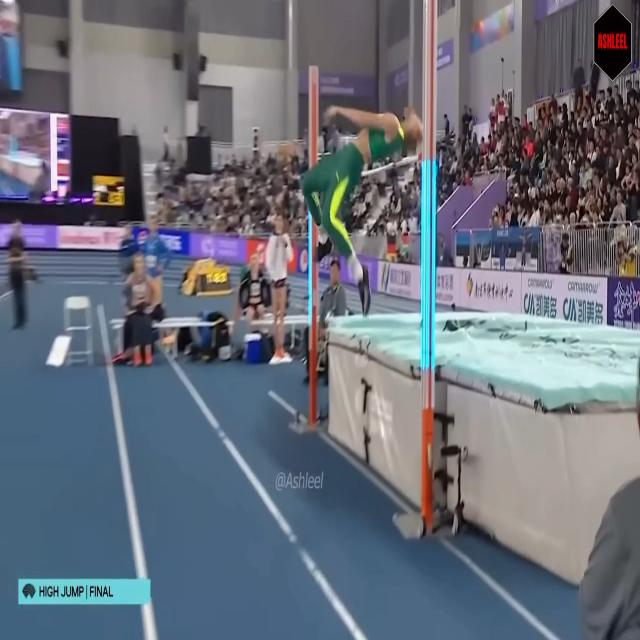jump: (300, 105, 422, 317)
